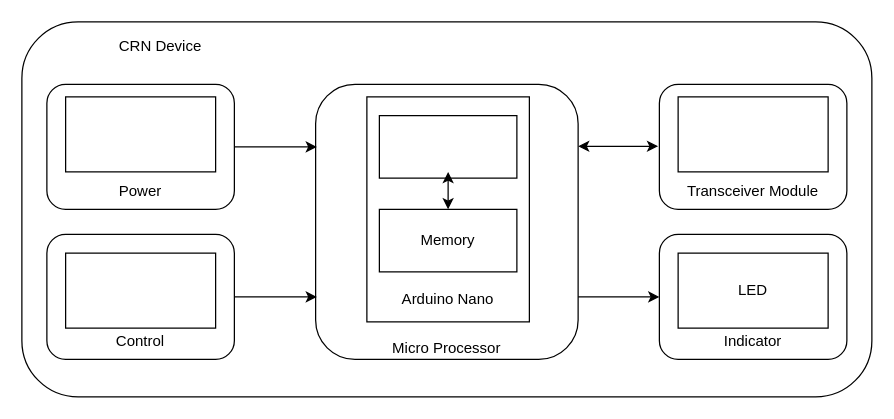
The diagram is 894 pixels wide and 419 high, and some of its shapes have lost their labels. Each missing label, with the centre of its shape:
9V Battery: (x=140, y=134)
CC1101: (x=752, y=134)
MCU: (x=447, y=146)
Switch: (x=140, y=290)
